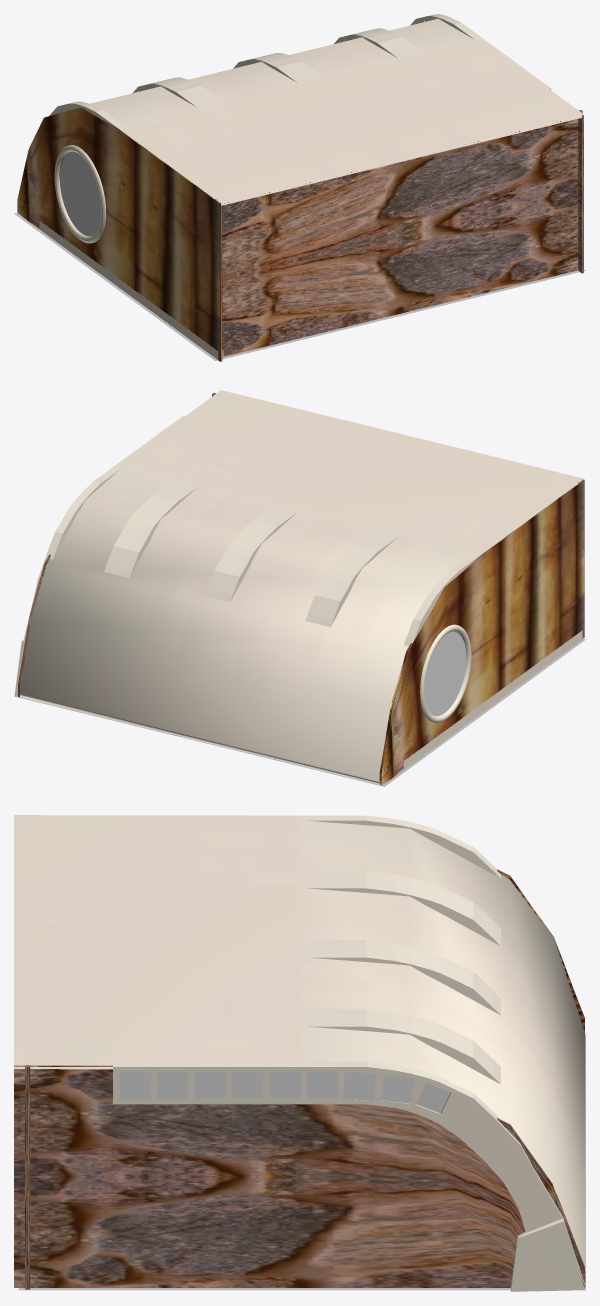
File: entorno06.fbx
3 renders of one model, top to bottom at view 1: azimuth 30°, elevation 25°; view 2: azimuth 150°, elevation 25°; view 3: azimuth 270°, elevation 25°, orthographic. The views are drawn at different scales.
Parts seen in each view (by area): view 1: ParedPiedras, Techo, ParedBambu, BIGA, cristal, Piso, barraPiso, marcoCristal, PadredLadrillo, BigaPared, BigaPared.001; view 2: Techo, ParedBambu, BIGA, cristal, barraPiso, BigaPared.001, BigaPared, Piso, marcoCristal; view 3: Techo, PadredLadrillo, BigaPared.001, BIGA, CuadradoCristal, BigaPared, Piso, ParedPiedras, CuCristal, CuCristal2, CuCristal3.
Part boxes in pixels (box(x1,y1,x2,y2)): ParedPiedras: box(215, 110, 582, 356); Techo: box(90, 18, 583, 205); ParedBambu: box(17, 107, 222, 361); BIGA: box(132, 28, 423, 107); cristal: box(59, 151, 101, 236); Piso: box(14, 213, 585, 360); barraPiso: box(39, 221, 223, 359); marcoCristal: box(54, 145, 105, 243); PadredLadrillo: box(578, 115, 583, 273); BigaPared: box(49, 101, 216, 200); BigaPared.001: box(410, 14, 551, 89); Techo: box(17, 390, 583, 784); ParedBambu: box(379, 479, 584, 785); BIGA: box(72, 480, 398, 761); cristal: box(424, 631, 466, 715); barraPiso: box(403, 630, 582, 769); BigaPared.001: box(14, 415, 184, 697); BigaPared: box(373, 482, 579, 784); Piso: box(14, 639, 585, 786); marcoCristal: box(420, 624, 471, 723); Techo: box(14, 815, 585, 1285); PadredLadrillo: box(14, 1065, 585, 1287); BigaPared.001: box(113, 1061, 584, 1291); BIGA: box(306, 871, 500, 1084); CuadradoCristal: box(120, 1071, 338, 1098); BigaPared: box(304, 815, 500, 878); Piso: box(18, 1035, 585, 1290); ParedPiedras: box(25, 1065, 30, 1289); CuCristal: box(343, 1072, 375, 1100); CuCristal2: box(381, 1074, 413, 1103); CuCristal3: box(416, 1083, 450, 1113).
Bounding box in the file's own units: 9001 × 3704 × 8526.
